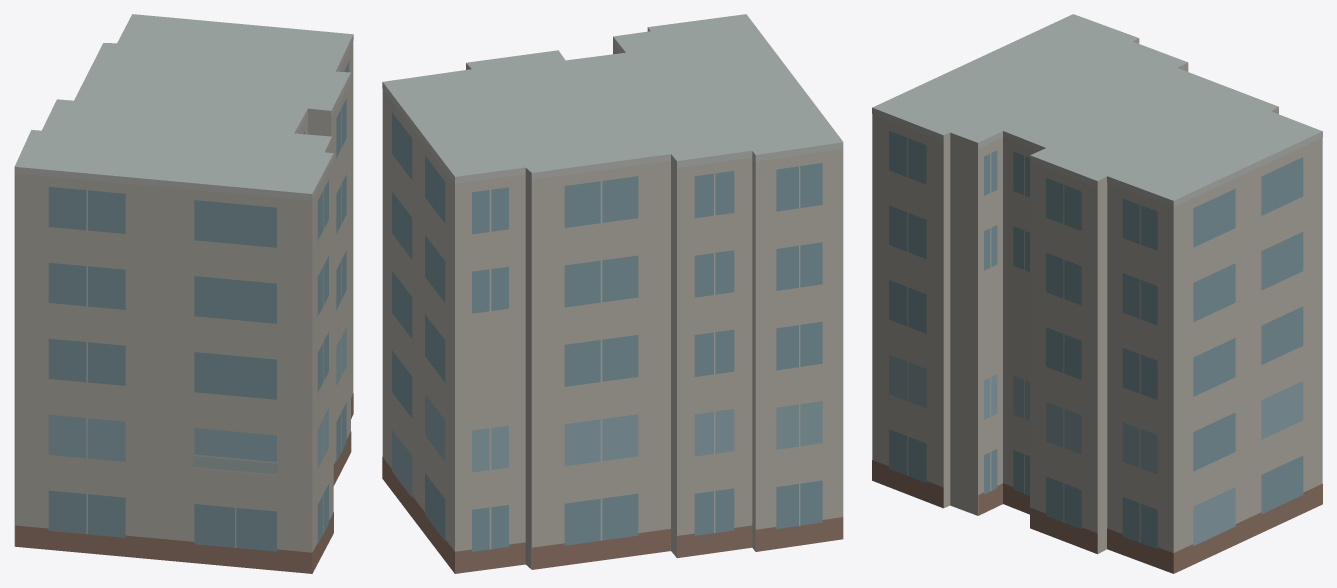
Rendered from survey-upis-32616391.glb.
The picture shows the model from 3 angles, left to right: view 1: azimuth 30°, elevation 25°; view 2: azimuth 150°, elevation 25°; view 3: azimuth 270°, elevation 25°; orthographic projection. The views are drawn at different scales.
Parts seen in each view (by area): view 1: survey-upis-32616391.tmp; view 2: survey-upis-32616391.tmp; view 3: survey-upis-32616391.tmp.
Boxes of the visible parts, <box> form: survey-upis-32616391.tmp: <box>14,14,353,573</box>; survey-upis-32616391.tmp: <box>382,14,843,573</box>; survey-upis-32616391.tmp: <box>872,14,1322,573</box>.
Size of the model in its own units: 15.48 by 14.4 by 15.77.
